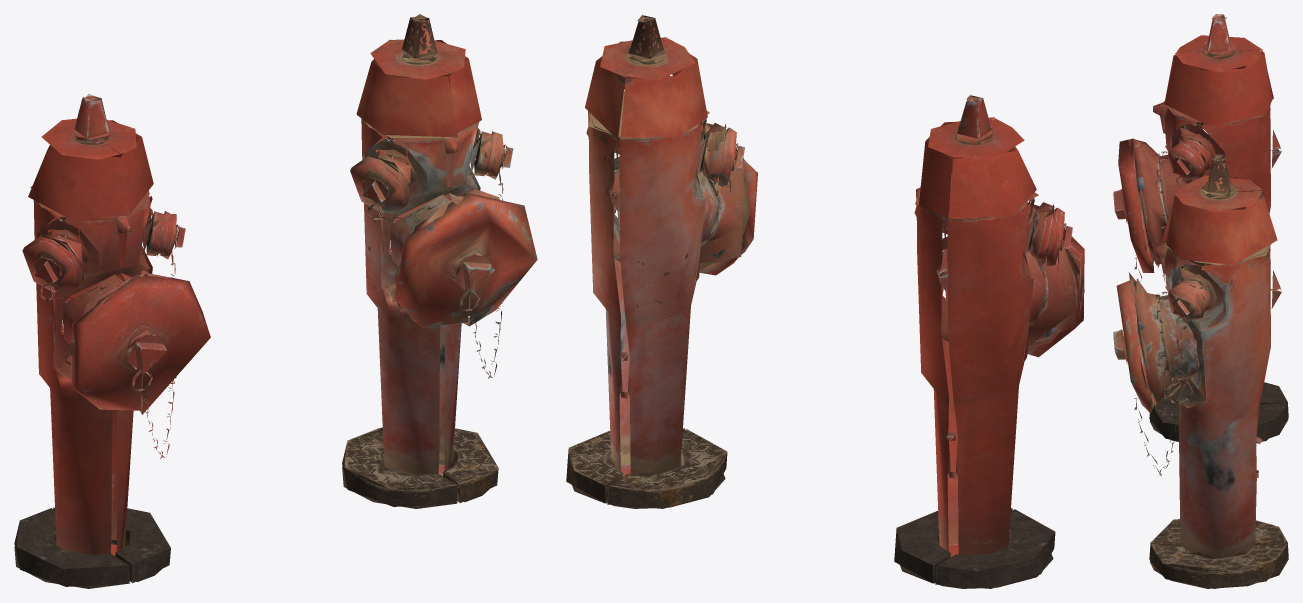
The model's file is fire_hydrant.glb.
3 views of the same model, side by side, from view 1: azimuth 30°, elevation 25°; view 2: azimuth 150°, elevation 25°; view 3: azimuth 270°, elevation 25° (orthographic). The views are drawn at different scales.
Parts seen in each view (by area): view 1: fire_hydrant_aged, fire_hydrant, fire_hydrant_cap_01, fire_hydrant_cap_01_aged, fire_hydrant_cap_03_aged, fire_hydrant_cap_03, fire_hydrant_chain, fire_hydrant_chain_aged, fire_hydrant_cap_02, fire_hydrant_cap_02_aged; view 2: fire_hydrant_aged, fire_hydrant, fire_hydrant_cap_01, fire_hydrant_cap_01_aged, fire_hydrant_cap_03, fire_hydrant_cap_03_aged; view 3: fire_hydrant_aged, fire_hydrant, fire_hydrant_cap_01, fire_hydrant_cap_01_aged, fire_hydrant_cap_02_aged, fire_hydrant_cap_02, fire_hydrant_chain_aged.
Boxes of the visible parts, x1,y1,x2,y2 form: fire_hydrant_aged: (342,14,499,508); fire_hydrant: (14,94,170,588); fire_hydrant_cap_01: (70,272,210,414); fire_hydrant_cap_01_aged: (394,192,537,327); fire_hydrant_cap_03_aged: (350,155,409,212); fire_hydrant_cap_03: (22,235,82,292); fire_hydrant_chain: (40,250,176,458); fire_hydrant_chain_aged: (364,154,503,378); fire_hydrant_cap_02: (157,211,185,259); fire_hydrant_cap_02_aged: (484,131,513,179); fire_hydrant_aged: (566,14,749,508); fire_hydrant: (894,94,1082,588); fire_hydrant_cap_01: (1027,202,1084,357); fire_hydrant_cap_01_aged: (698,121,757,275); fire_hydrant_cap_03: (1042,204,1072,265); fire_hydrant_cap_03_aged: (714,124,744,185); fire_hydrant_aged: (1134,154,1288,588); fire_hydrant: (1132,14,1288,441); fire_hydrant_cap_01: (1113,138,1154,272); fire_hydrant_cap_01_aged: (1113,272,1153,413); fire_hydrant_cap_02_aged: (1168,282,1205,322); fire_hydrant_cap_02: (1168,142,1205,181); fire_hydrant_chain_aged: (1134,291,1193,475).
Size of the model in its own units: 0.7768 by 0.7084 by 0.2808.
2 materials, 2 textured.
